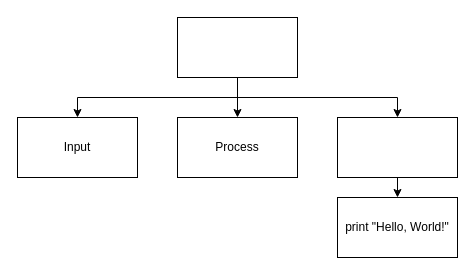
This 475x275 diagram has some shape labels left out. The shapes that lost their labels are listed below. From the top down, each one's box as (x1, y1, x2, y2) in pixels, then its label:
(176, 16, 298, 78): hello_world
(336, 116, 458, 178): Output
